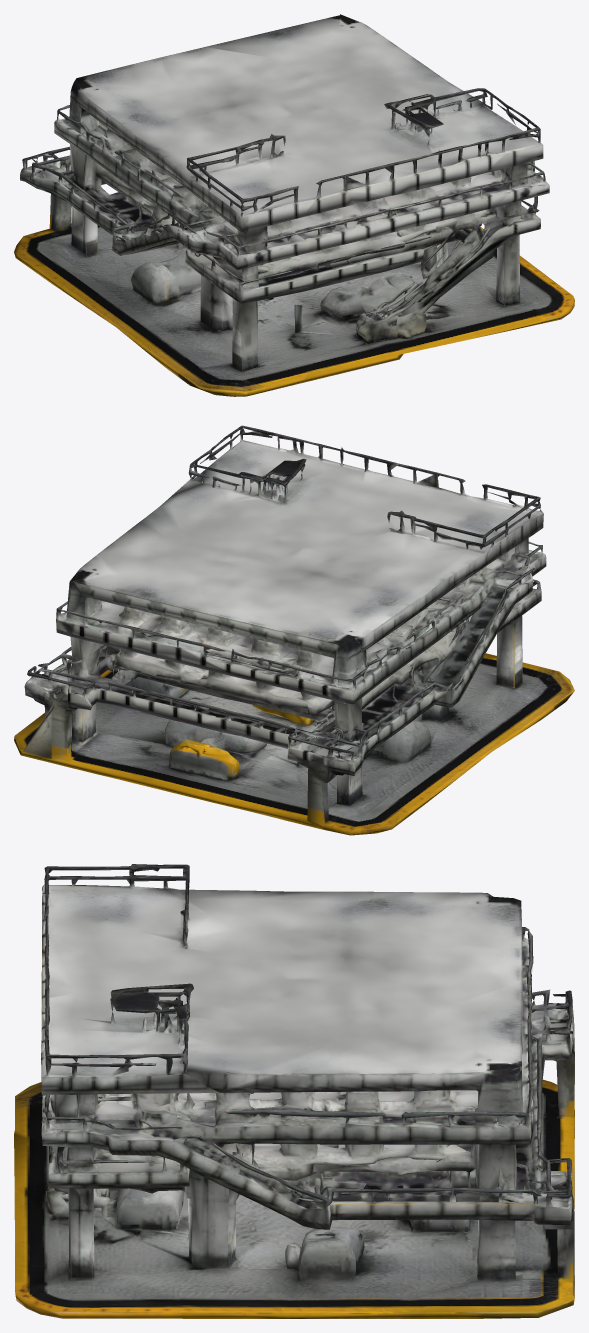
The model's file is ximen_parking_garage_01.glb.
3 views of the same model, one above another, from view 1: azimuth 30°, elevation 25°; view 2: azimuth 150°, elevation 25°; view 3: azimuth 270°, elevation 25° (orthographic). The views are drawn at different scales.
Size of the model in its own units: 2 by 0.9834 by 2.
Materials: 1 (1 with a texture image).
